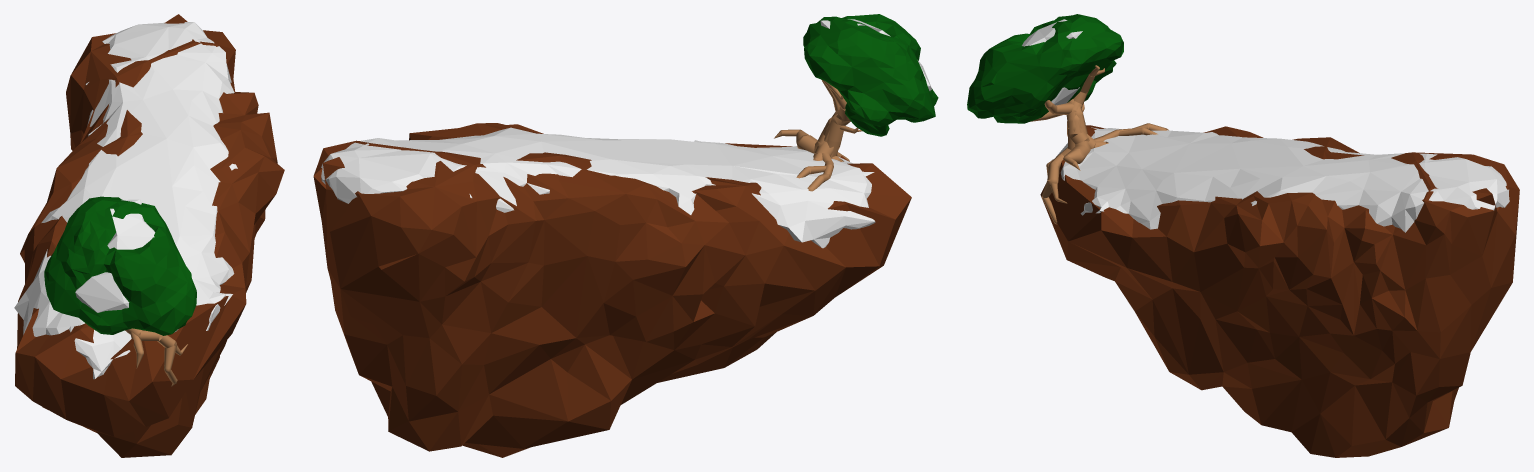
File: Tre_Isola1.fbx
The picture shows the model from 3 angles, left to right: view 1: azimuth 30°, elevation 25°; view 2: azimuth 150°, elevation 25°; view 3: azimuth 270°, elevation 25°; orthographic projection. The views are drawn at different scales.
Visible parts, largest first — view 1: Plane.037, Plane.038, Mball.004, Sphere.004, NurbsPath.002; view 2: Plane.037, Plane.038, Mball.004, NurbsPath.002; view 3: Plane.037, Plane.038, Mball.004, NurbsPath.002, Sphere.004.
Boxes of the visible parts, x1,y1,x2,y2 form: Plane.037: [15, 14, 284, 457]; Plane.038: [14, 22, 237, 379]; Mball.004: [44, 196, 196, 335]; Sphere.004: [75, 199, 155, 312]; NurbsPath.002: [125, 328, 187, 386]; Plane.037: [313, 123, 911, 457]; Plane.038: [321, 127, 875, 248]; Mball.004: [803, 14, 938, 136]; NurbsPath.002: [774, 79, 862, 191]; Plane.037: [1040, 125, 1519, 457]; Plane.038: [1051, 127, 1509, 232]; Mball.004: [967, 14, 1123, 123]; NurbsPath.002: [1030, 65, 1168, 224]; Sphere.004: [1022, 19, 1082, 105].
Bounding box in the file's own units: 123 × 111 × 161.
